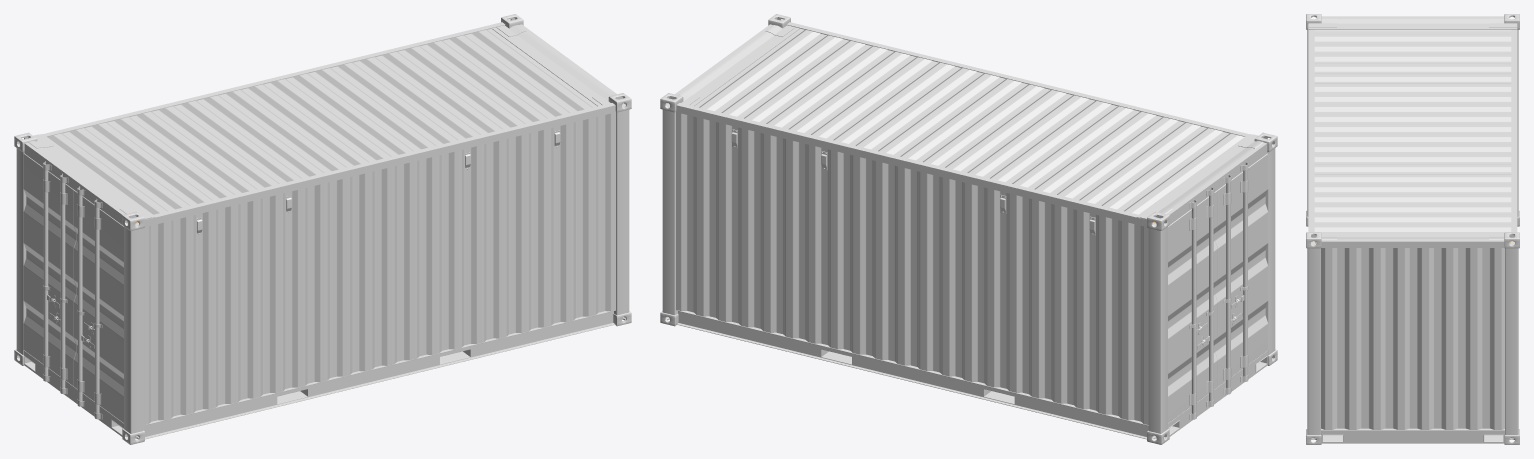
File: container.glb
The picture shows the model from 3 angles, left to right: view 1: azimuth 30°, elevation 25°; view 2: azimuth 150°, elevation 25°; view 3: azimuth 270°, elevation 25°; orthographic projection. The views are drawn at different scales.
Parts seen in each view (by area): view 1: Container_Exterior_Blank_01; view 2: Container_Exterior_Blank_01; view 3: Container_Exterior_Blank_01.
Part boxes in pixels (bbox=[...]): Container_Exterior_Blank_01: bbox=[14, 14, 631, 444]; Container_Exterior_Blank_01: bbox=[660, 14, 1277, 444]; Container_Exterior_Blank_01: bbox=[1306, 14, 1519, 444].
Size of the model in its own units: 6.11 by 2.6 by 2.44.
9 materials, 1 textured.
